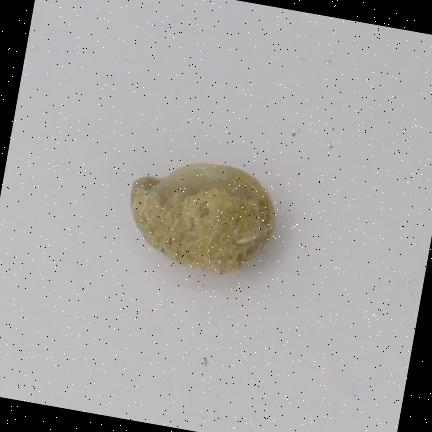husk: (132, 164, 275, 272)
